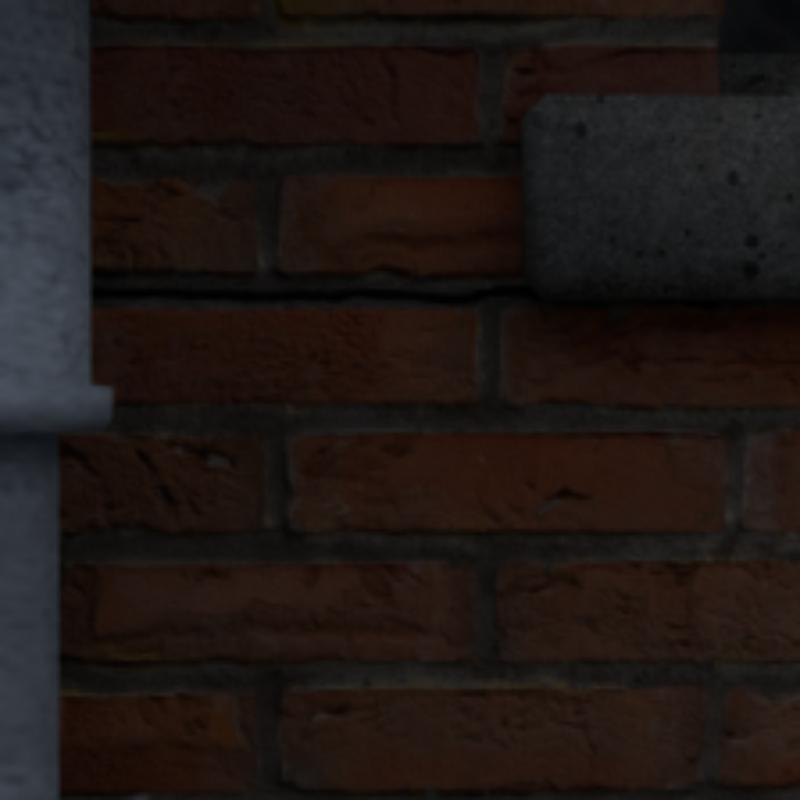pothole: (93, 289, 536, 300)
